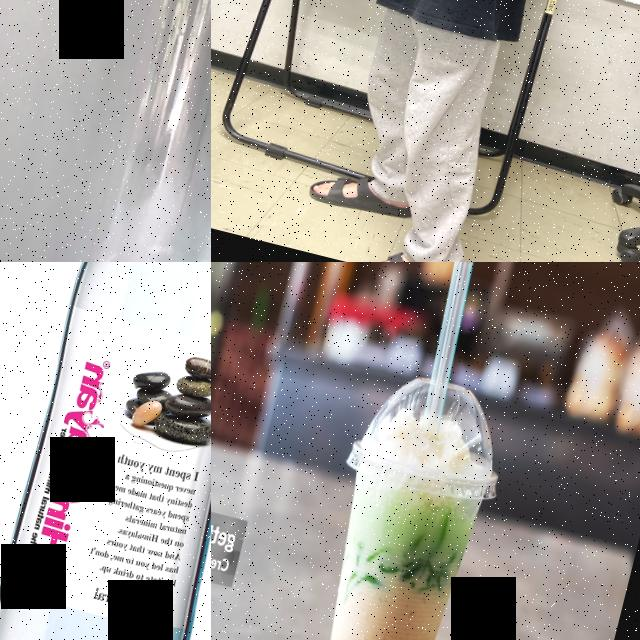bottle: (0, 262, 211, 640), (54, 0, 211, 262)
cup: (278, 360, 521, 640)
